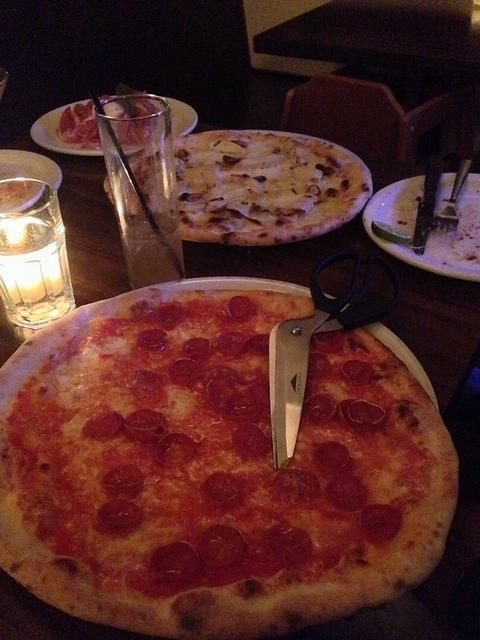lime: (371, 220, 411, 244)
